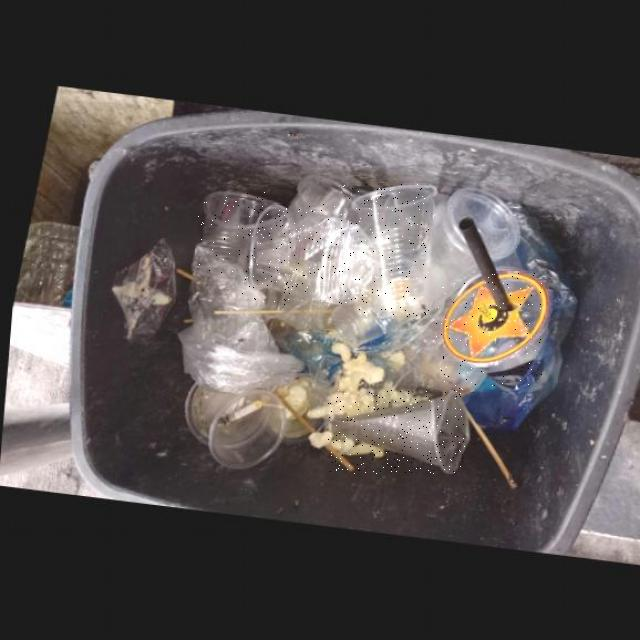plastic: (242, 204, 370, 304), (436, 272, 542, 392), (328, 390, 465, 474), (344, 184, 429, 318), (196, 191, 271, 274)
